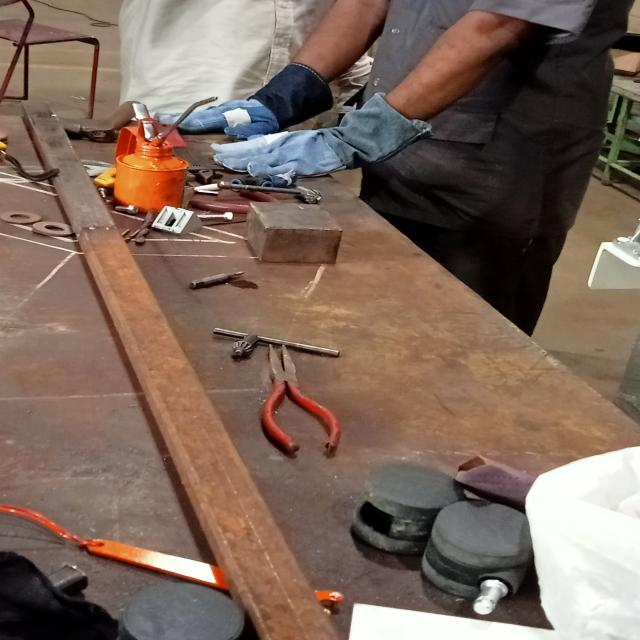Gloves-Detection: (230, 104, 410, 181), (163, 67, 317, 137)
